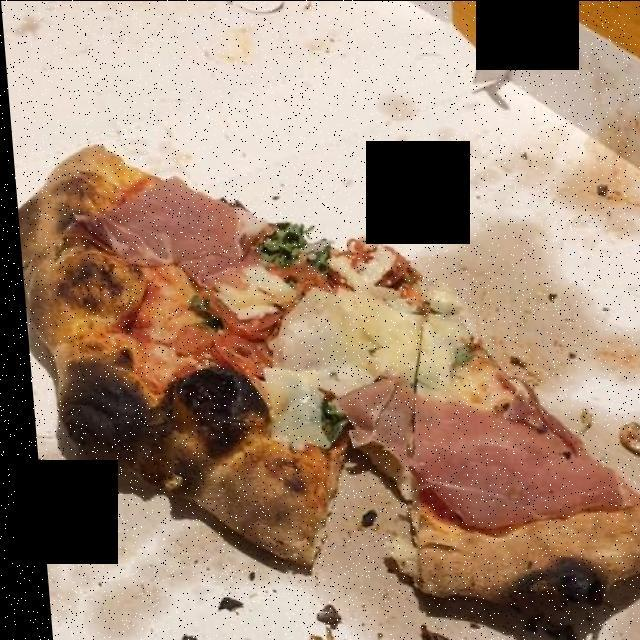cheese: (226, 248, 456, 454)
ham: (73, 166, 606, 528)
pizza: (26, 156, 639, 590)
